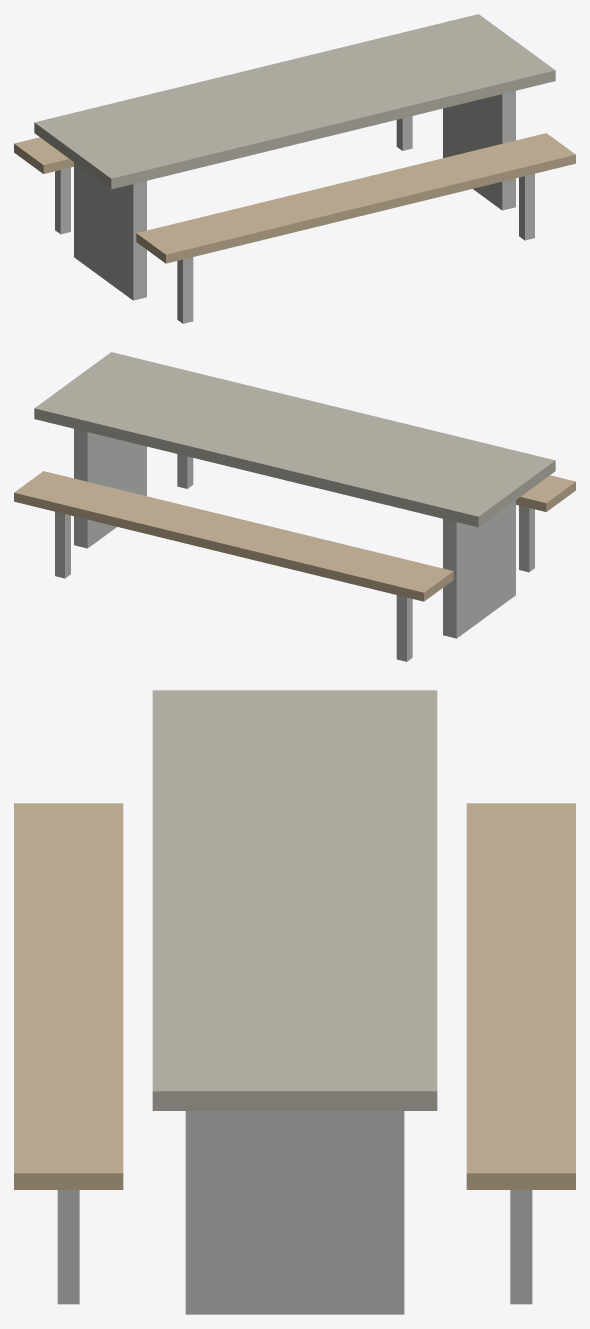
The model's file is mov_4404c510c7.gltf.
The picture shows the model from 3 angles, top to bottom: view 1: azimuth 30°, elevation 25°; view 2: azimuth 150°, elevation 25°; view 3: azimuth 270°, elevation 25°; orthographic projection. The views are drawn at different scales.
Visible parts, largest first — view 1: mov_4404c510c7; view 2: mov_4404c510c7; view 3: mov_4404c510c7.
Boxes of the visible parts, x1,y1,x2,y2 form: mov_4404c510c7: [14, 14, 575, 323]; mov_4404c510c7: [14, 352, 575, 661]; mov_4404c510c7: [14, 690, 575, 1314].
Bounding box in the file's own units: 2.6 × 0.77 × 1.54.
